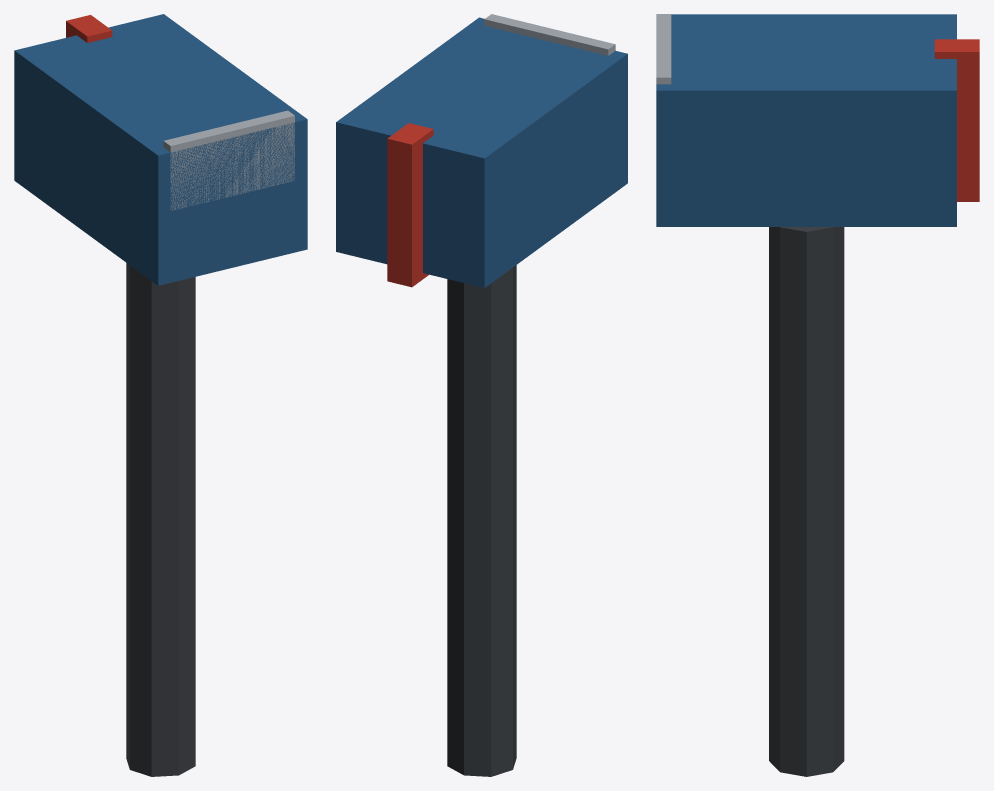
Rendered from PRP_Mailbox.fbx.
The picture shows the model from 3 angles, left to right: view 1: azimuth 30°, elevation 25°; view 2: azimuth 150°, elevation 25°; view 3: azimuth 270°, elevation 25°; orthographic projection. The views are drawn at different scales.
Visible parts, largest first — view 1: PRP_Mailbox__BODY; view 2: PRP_Mailbox__BODY; view 3: PRP_Mailbox__BODY.
Part boxes in pixels (x1,y1,x2,y2): PRP_Mailbox__BODY: (14, 14, 307, 776); PRP_Mailbox__BODY: (336, 14, 627, 776); PRP_Mailbox__BODY: (656, 14, 979, 776).
Bounding box in the file's own units: 0.24 × 1.05 × 0.43.
